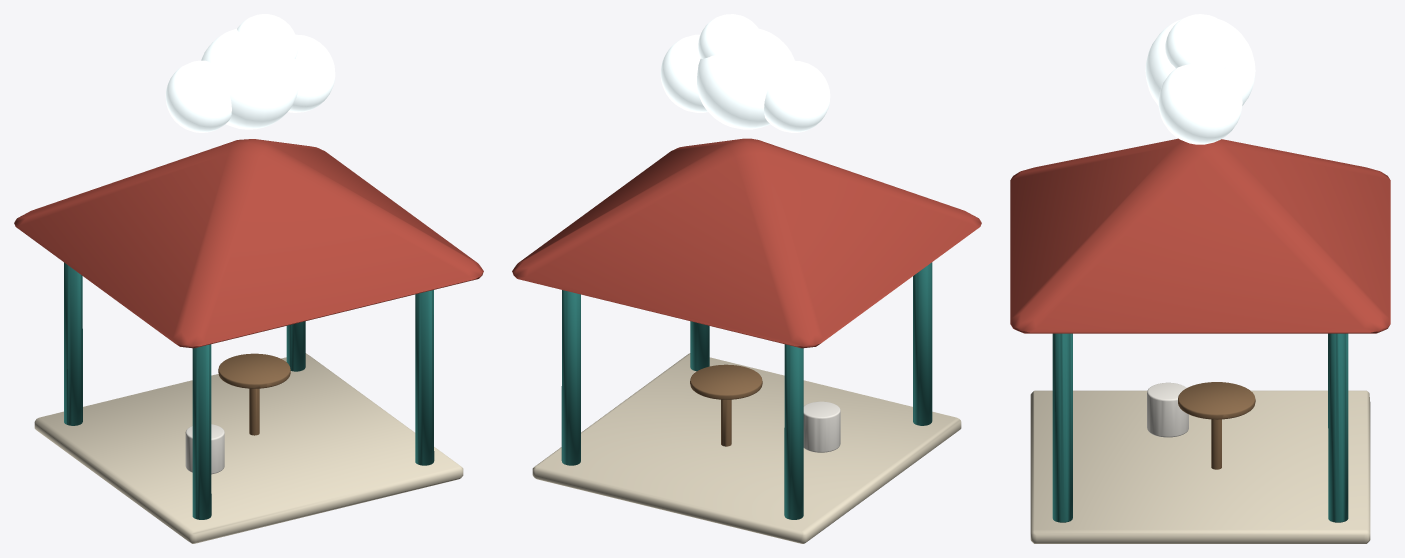
3 renders of one model, left to right at view 1: azimuth 30°, elevation 25°; view 2: azimuth 150°, elevation 25°; view 3: azimuth 270°, elevation 25°, orthographic. The views are drawn at different scales.
Parts seen in each view (by area): view 1: roof, deck, rm_cloud, post, post.002, post.001, tab, stool, post.003; view 2: roof, deck, rm_cloud, post.001, post.003, post, tab, stool, post.002; view 3: roof, deck, rm_cloud, post.003, post.002, tab, stool, tleg.
Boxes of the visible parts, <box> form: roof: <box>14,139,483,348</box>; deck: <box>34,353,463,543</box>; rm_cloud: <box>165,14,335,132</box>; post: <box>192,344,211,519</box>; post.002: <box>415,290,434,465</box>; post.001: <box>64,262,82,425</box>; tab: <box>218,353,290,388</box>; stool: <box>185,424,224,474</box>; post.003: <box>286,321,305,371</box>; roof: <box>512,138,981,348</box>; deck: <box>532,353,961,543</box>; rm_cloud: <box>660,14,830,132</box>; post.001: <box>784,344,803,519</box>; post.003: <box>561,290,580,465</box>; post: <box>913,262,932,425</box>; tab: <box>690,364,762,399</box>; stool: <box>803,401,840,452</box>; post.002: <box>690,321,709,371</box>; roof: <box>1010,138,1390,333</box>; deck: <box>1030,390,1370,543</box>; rm_cloud: <box>1145,14,1255,144</box>; post.003: <box>1328,333,1348,522</box>; post.002: <box>1052,333,1072,522</box>; tab: <box>1178,382,1255,419</box>; stool: <box>1147,382,1188,437</box>; tleg: <box>1211,419,1221,469</box>.
Bounding box in the file's own units: 2.35 × 3.17 × 2.35.
